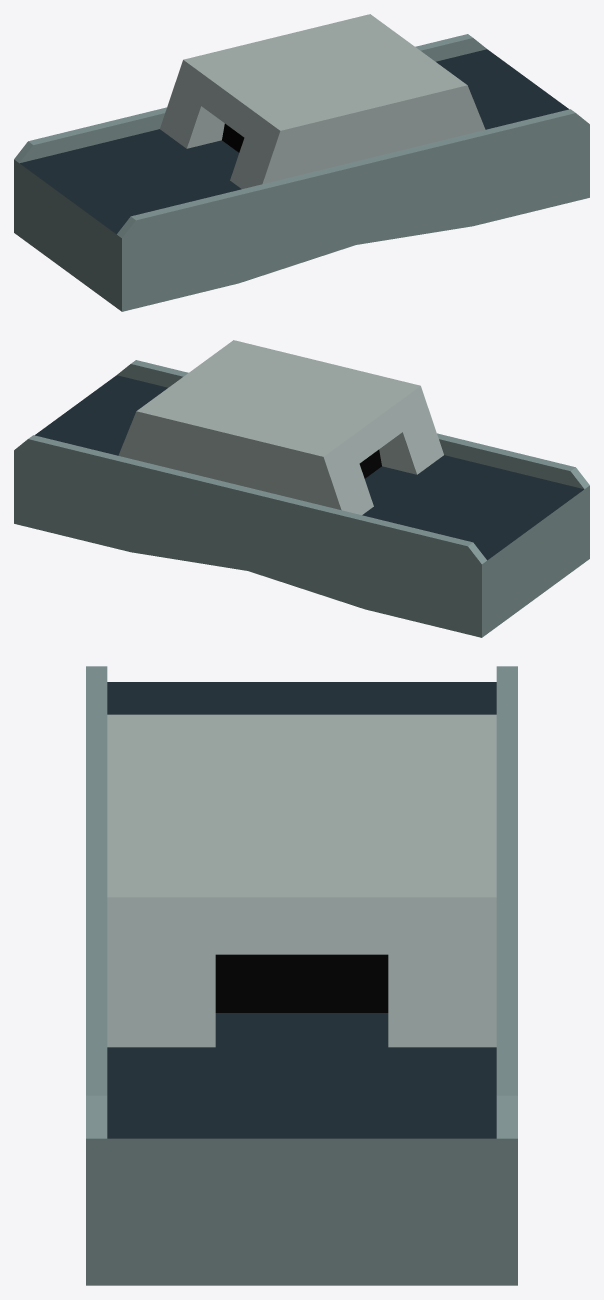
File: Sawmill.fbx
3 views of the same model, one above another, from view 1: azimuth 30°, elevation 25°; view 2: azimuth 150°, elevation 25°; view 3: azimuth 270°, elevation 25° (orthographic). The views are drawn at different scales.
Visible parts, largest first — view 1: Machine; view 2: Machine; view 3: Machine, Darkness.
Part boxes in pixels (<box>): Machine: <box>14,14,589,311</box>; Machine: <box>14,340,589,637</box>; Machine: <box>86,666,517,1285</box>; Darkness: <box>215,954,388,1012</box>.
Bounding box in the file's own units: 1000 × 280 × 400.
